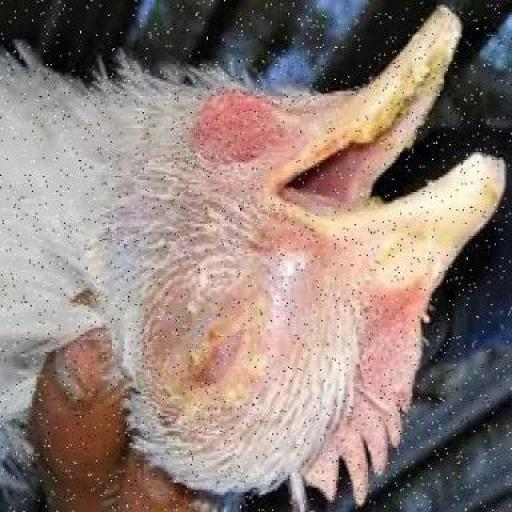disease: (137, 240, 295, 433)
